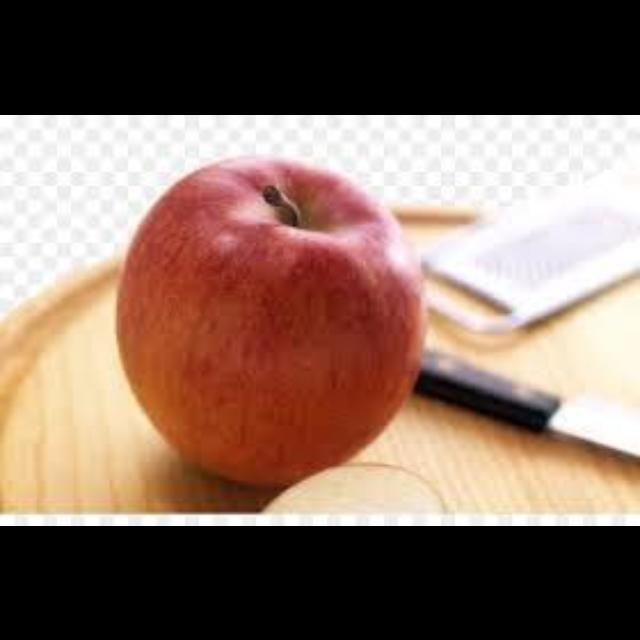apple: (117, 157, 425, 484)
